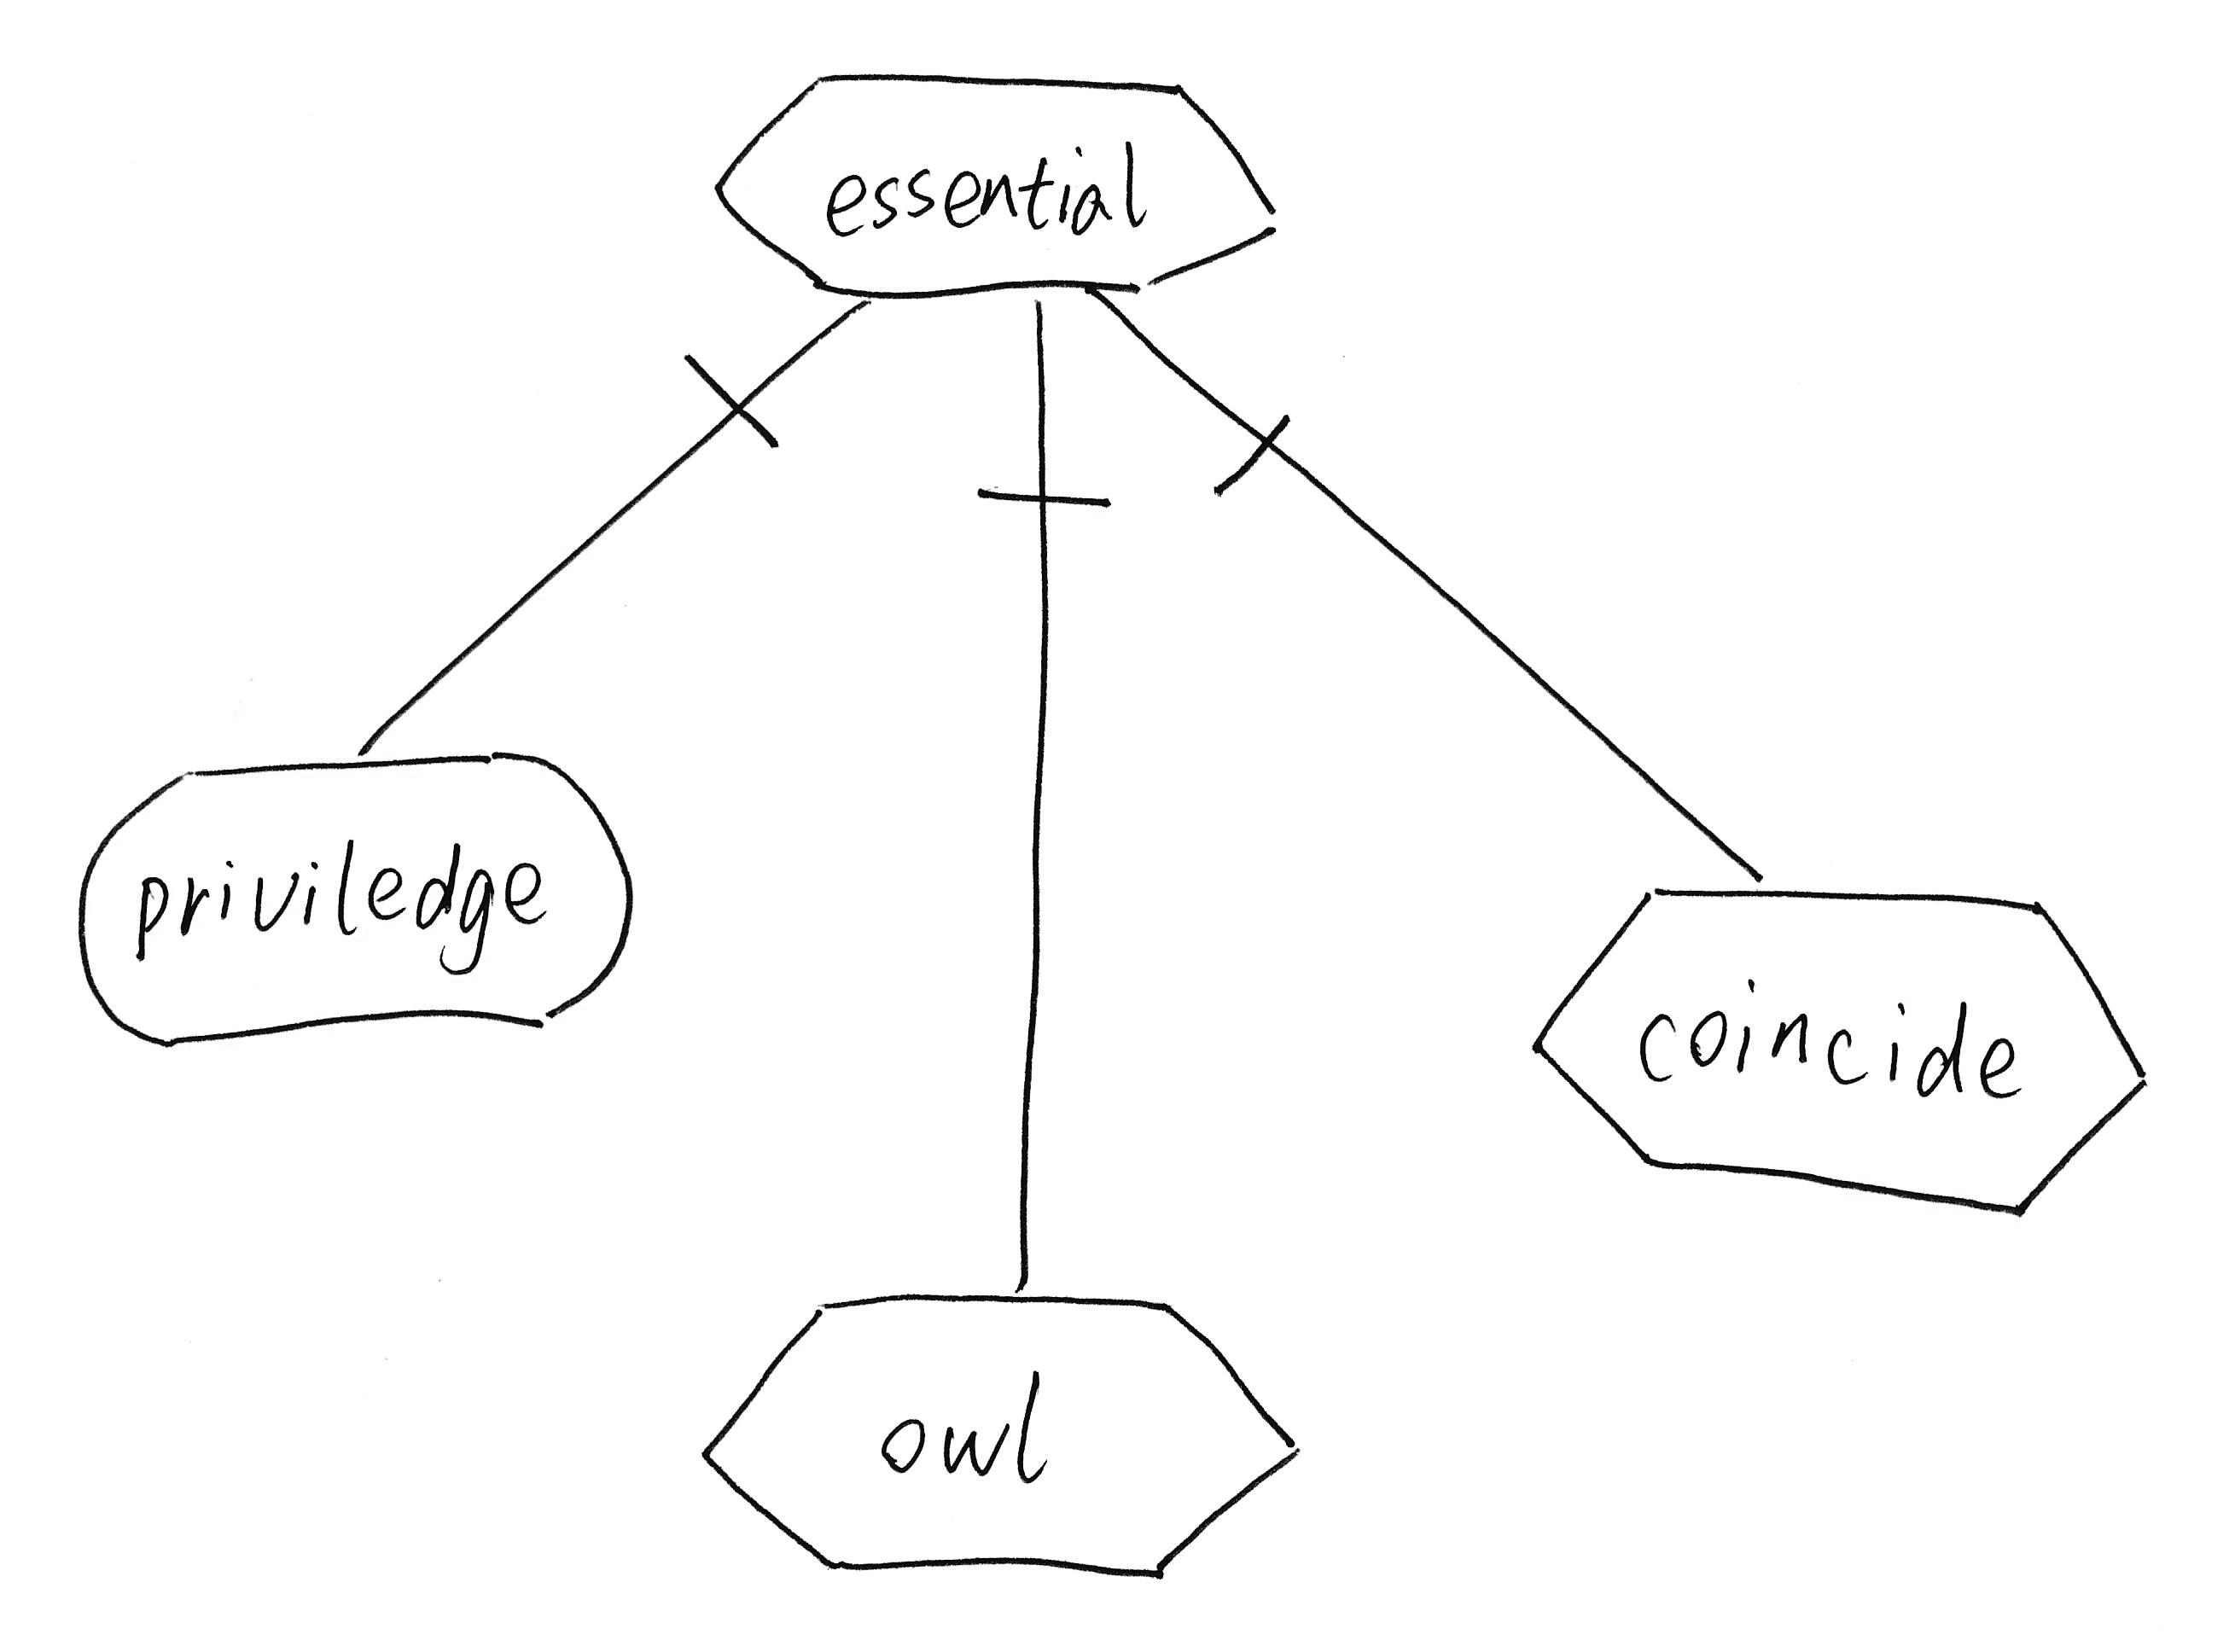and: (1072, 257, 1305, 501), (970, 293, 1126, 536), (678, 286, 875, 455)
goal: (52, 732, 658, 1067)
task: (1518, 864, 2169, 1237), (684, 1275, 1322, 1598), (696, 54, 1294, 314)
